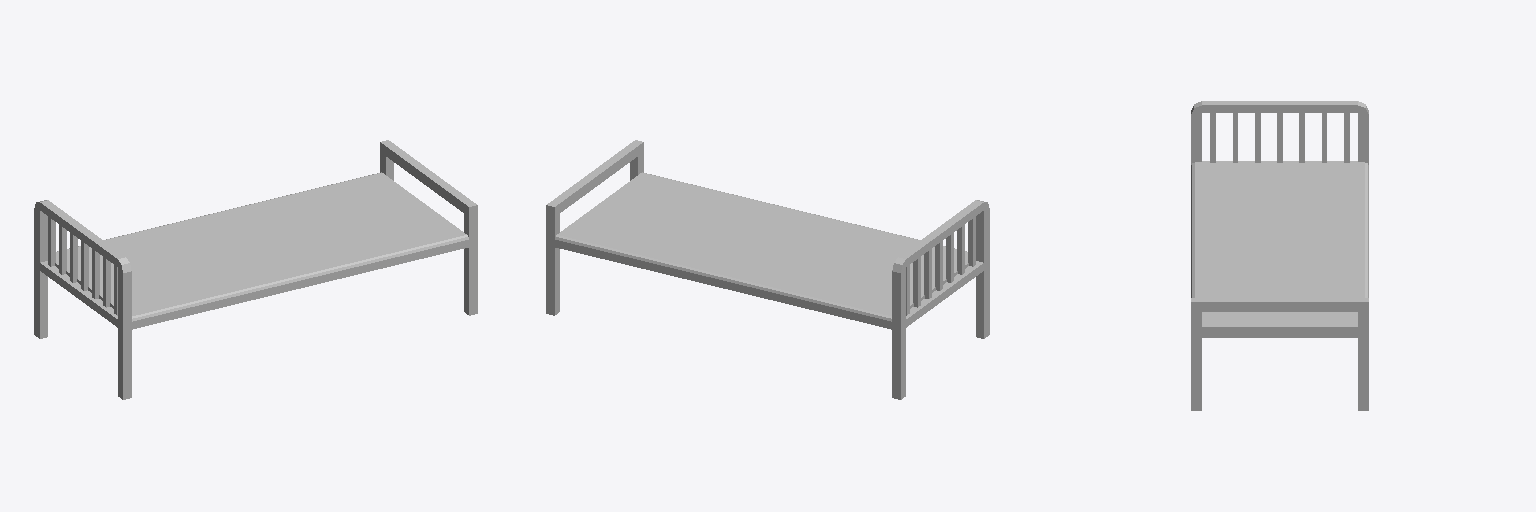
The model's file is bed.obj.
3 views of the same model, side by side, from view 1: azimuth 30°, elevation 25°; view 2: azimuth 150°, elevation 25°; view 3: azimuth 270°, elevation 25° (orthographic).
Parts seen in each view (by area): view 1: polySurface36; view 2: polySurface36; view 3: polySurface36.
Part boxes in pixels (left/top/right/bottom): polySurface36: left=34, top=140, right=477, bottom=399; polySurface36: left=546, top=140, right=989, bottom=399; polySurface36: left=1191, top=101, right=1368, bottom=410.
Bounding box in the file's own units: 18.41 × 6.8 × 8.